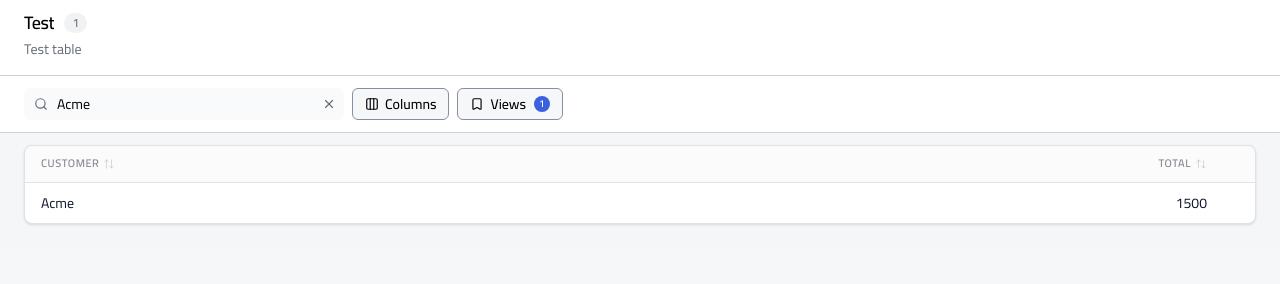
GenericTable — column contract › applies a named view's layout and replaces the previous route state
expect the text "Acme" is shown: met, box [25,182,1142,222]
Press the mouse on the button "Views 1": (510, 104) [458,88,563,120]
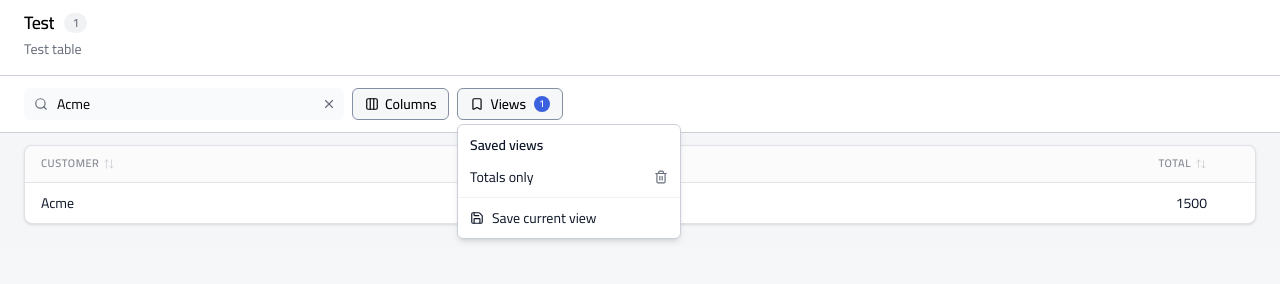
Click the menu item "Totals only": (502, 177) [462,161,676,193]
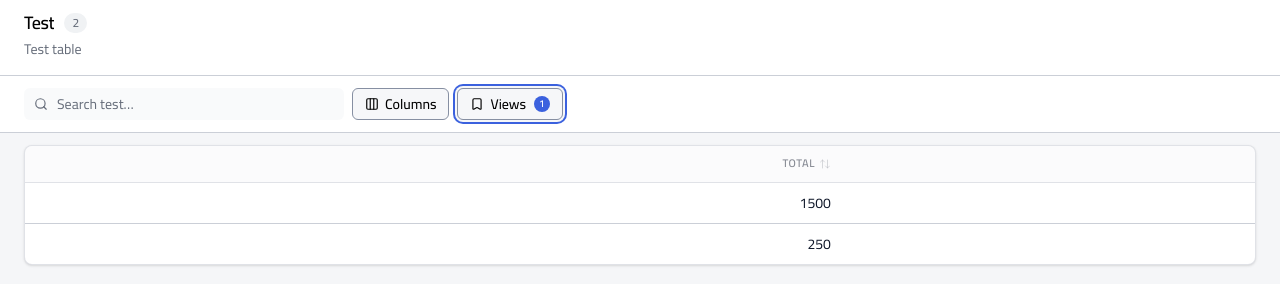
expect the text "Acme" is gone: met
expect the button "Customer" is gone: met
